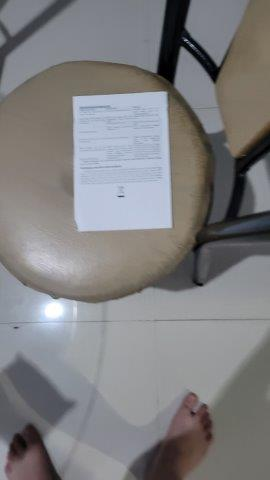kertas: (75, 91, 172, 231)
